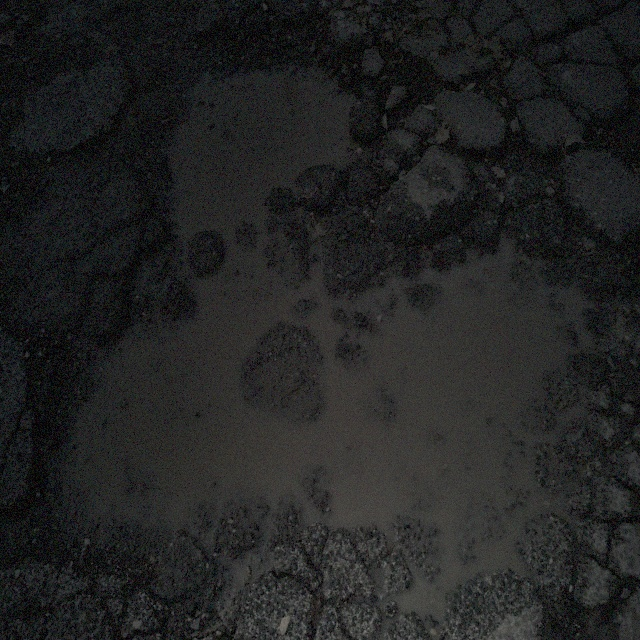pothole: (16, 264, 327, 610), (133, 26, 374, 225)
